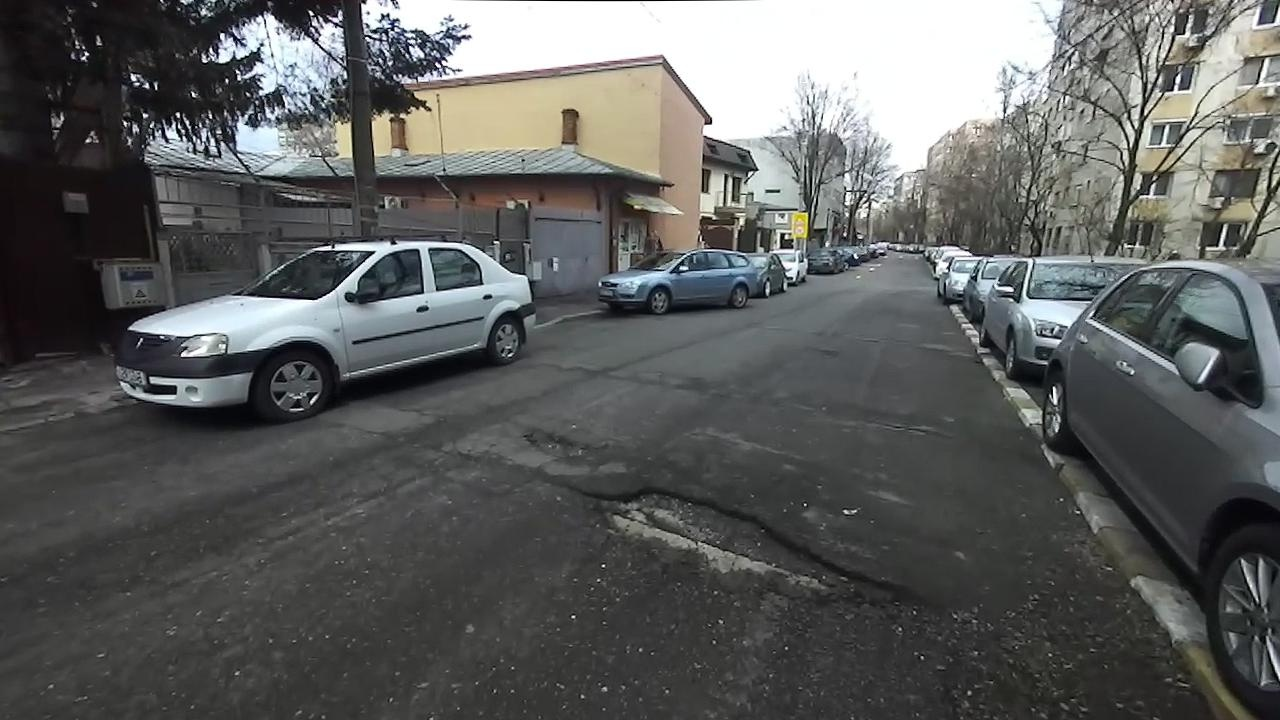pothole: (548, 480, 931, 616), (516, 422, 608, 464)
